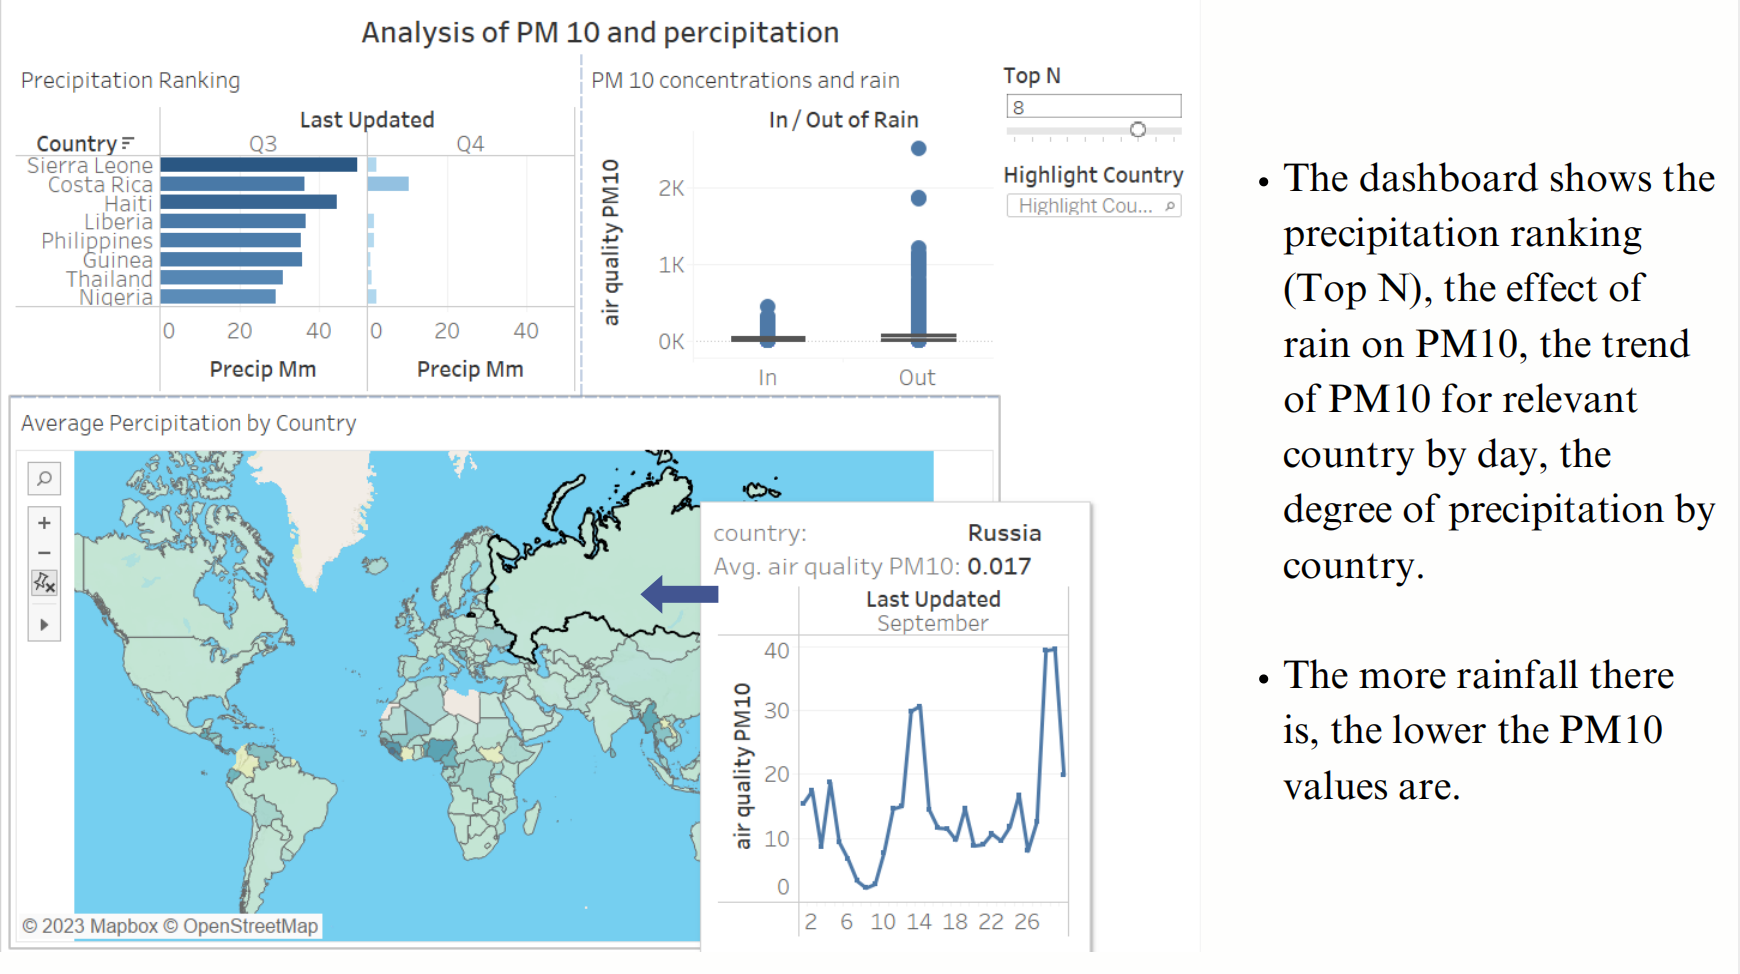

The page's visual inventory and layout, read from the dashboard file:
{"tool":"tableau","page":{"name":"Analysis of PM 10 and precipitation","canvas":[1000,800],"ordinal":0},"visuals":[{"type":"title","box":[8,8,984,39]},{"type":"worksheet","title":"Precipitation Ranking","mark":"Bar","rows":["country"],"cols":["last_updated","last_updated","precip_mm"],"box":[8,47,476,285.8]},{"type":"worksheet","title":"PM 10 concentrations and rain","mark":"Circle","rows":["air_quality_PM10"],"cols":["Rain"],"box":[484,47,348,285.8]},{"type":"parameter","param":"[Parameters].[Parameter 1]","box":[832,47,160,83]},{"type":"highlighter","title":"Precipitation Ranking","param":"[federated.0kef0cc193risa12up4x704nz458].[none:country:nk]","box":[832,130,160,60]},{"type":"worksheet","title":"Average Percipitation by Country ","mark":"Multipolygon","box":[8,332.8,824,459.2]}]}

Visuals, with their boxes on the page's 1000x800 design canvas (x1, y1, x2, y2). These are canvas units, not pixel positions in the 1740x974 screenshot, which may show the page scaled, cropped or inside an application window:
title: rect(8, 8, 992, 47)
"Precipitation Ranking" worksheet (Bar marks): rect(8, 47, 484, 333)
"PM 10 concentrations and rain" worksheet (Circle marks): rect(484, 47, 832, 333)
parameter: rect(832, 47, 992, 130)
"Precipitation Ranking" highlighter: rect(832, 130, 992, 190)
"Average Percipitation by Country " worksheet (Multipolygon marks): rect(8, 333, 832, 792)
